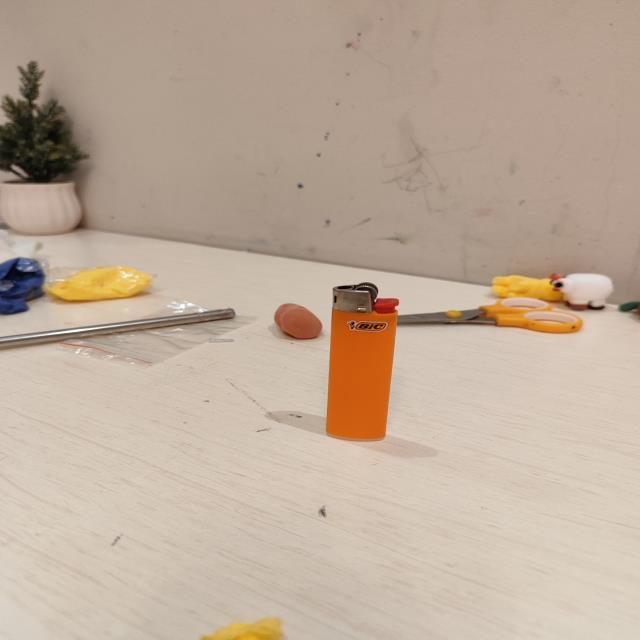lighter: (326, 282, 398, 440)
